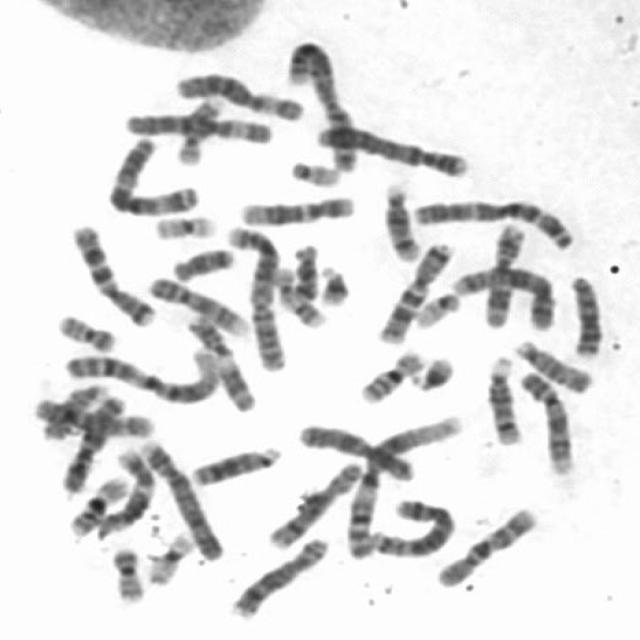A1: (341, 406, 470, 562), (59, 343, 222, 405)
A2: (279, 34, 362, 173), (222, 220, 289, 372)
A3: (407, 192, 580, 252), (102, 130, 205, 217)
B4: (136, 432, 228, 564), (311, 118, 473, 180)
B5: (444, 258, 559, 331), (365, 492, 459, 559)
C10: (428, 500, 540, 590), (27, 391, 156, 439)
C11: (180, 307, 259, 413), (478, 216, 529, 328)
C12: (92, 441, 159, 538), (233, 188, 359, 227)
C6: (170, 64, 308, 124), (118, 104, 277, 146)
C7: (64, 216, 160, 328), (371, 235, 458, 346)
C8: (225, 530, 334, 620), (262, 457, 364, 550)
C9: (143, 268, 252, 338), (514, 364, 578, 476)
D13: (185, 438, 285, 487), (563, 268, 607, 360)
D14: (481, 349, 528, 447), (378, 177, 425, 263)
D15: (510, 333, 597, 395), (37, 377, 112, 442)
E16: (63, 470, 132, 537), (354, 343, 426, 405)
E17: (268, 260, 332, 330), (171, 92, 226, 167)
E18: (166, 240, 238, 282), (286, 238, 322, 300)
F19: (140, 526, 197, 587), (147, 207, 220, 241)
F20: (51, 306, 119, 352), (106, 540, 148, 604)
G21: (403, 349, 458, 393), (314, 258, 353, 308)
G22: (408, 285, 464, 330), (284, 154, 345, 188)
X: (292, 417, 419, 484), (57, 388, 129, 494)
